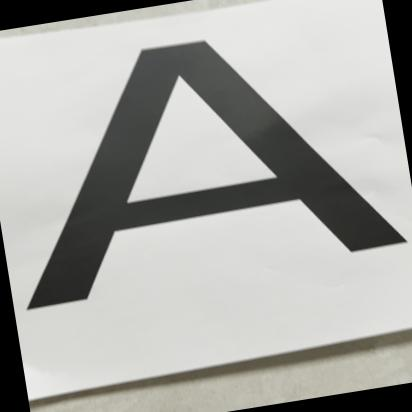seat: (0, 4, 412, 370)
